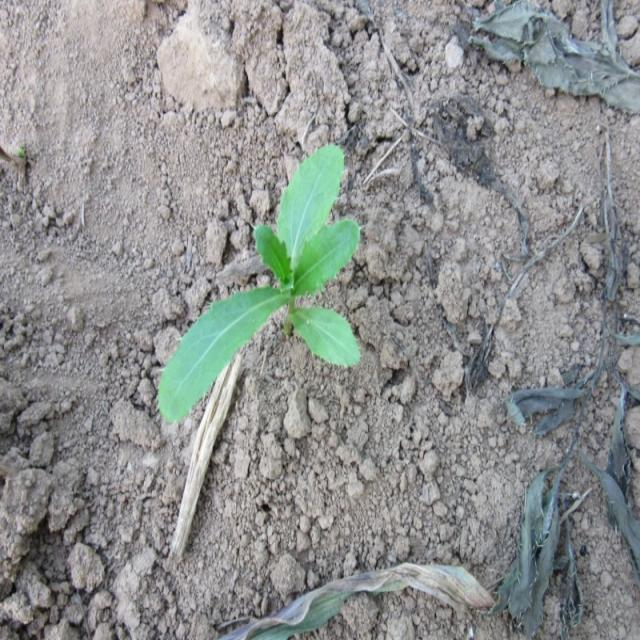cs: (157, 138, 365, 424)
